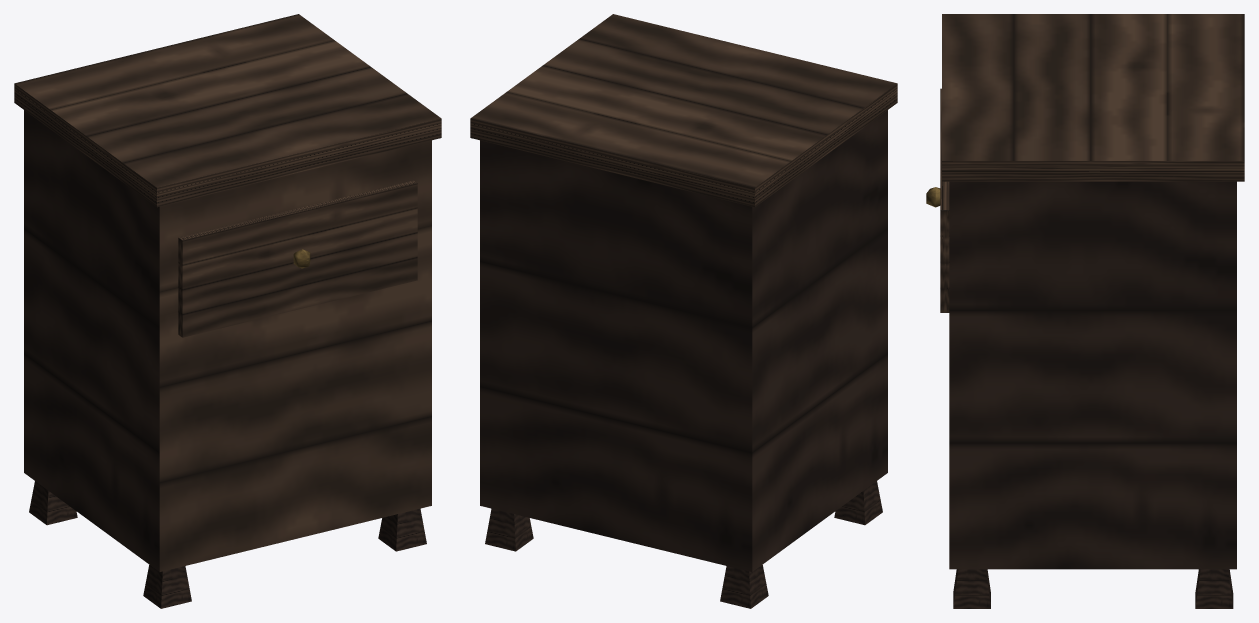
File: PSXH_Nightstand.obj
3 renders of one model, left to right at view 1: azimuth 30°, elevation 25°; view 2: azimuth 150°, elevation 25°; view 3: azimuth 270°, elevation 25°, orthographic. The views are drawn at different scales.
Parts seen in each view (by area): view 1: PSXH_Nightstand; view 2: PSXH_Nightstand; view 3: PSXH_Nightstand.
Boxes of the visible parts, x1,y1,x2,y2 form: PSXH_Nightstand: (14,14,441,608); PSXH_Nightstand: (470,14,897,608); PSXH_Nightstand: (926,14,1244,608).
Bounding box in the file's own units: 0.46 × 0.66 × 0.4204.
1 material, 1 textured.
